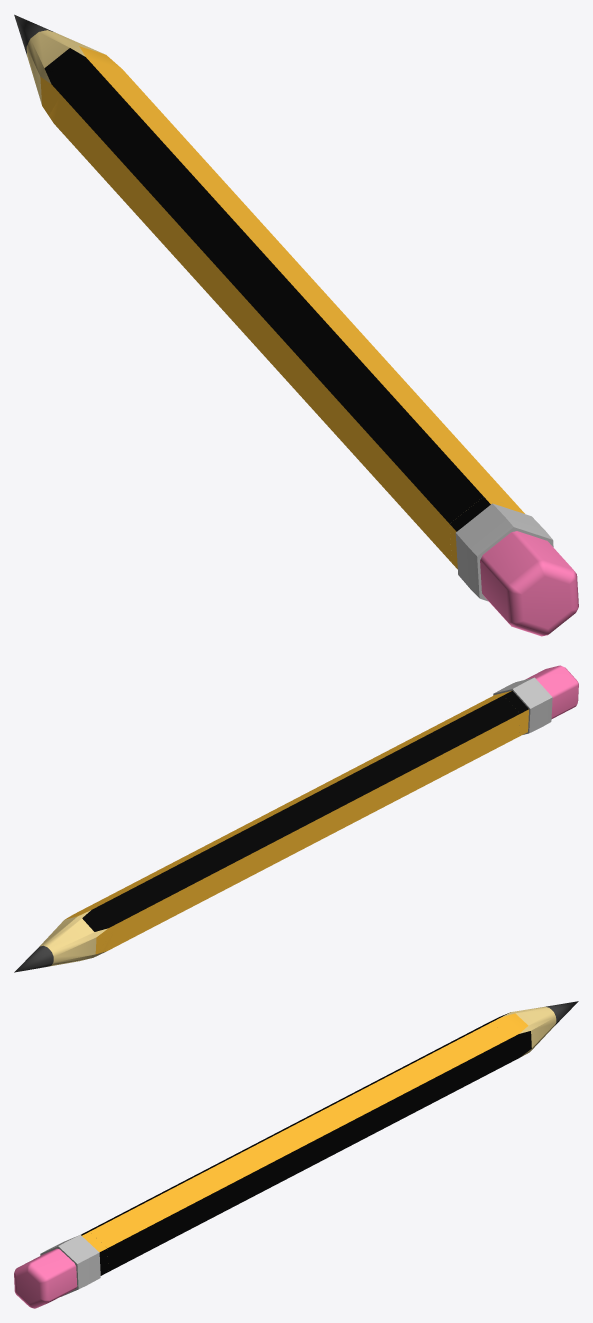
File: Pencil02.fbx
3 views of the same model, one above another, from view 1: azimuth 30°, elevation 25°; view 2: azimuth 150°, elevation 25°; view 3: azimuth 330°, elevation 25° (orthographic). The views are drawn at different scales.
Visible parts, largest first — view 1: PencilShaft, PencilEraser, PencilTip_01, PencilTip_04; view 2: PencilShaft, PencilEraser, PencilTip_01, PencilTip_04; view 3: PencilShaft, PencilEraser, PencilTip_01, PencilTip_04.
Part boxes in pixels (x1,y1,x2,y2): PencilShaft: (61,67,519,562); PencilEraser: (449,497,578,636); PencilTip_01: (14,14,111,115); PencilTip_04: (49,46,131,133); PencilShaft: (84,695,519,945); PencilEraser: (486,665,578,736); PencilTip_01: (14,910,117,972); PencilTip_04: (65,904,117,951); PencilShaft: (81,1022,510,1271); PencilEraser: (14,1232,108,1308); PencilTip_01: (493,1001,578,1058); PencilTip_04: (476,1013,527,1062).
Size of the model in its own units: 0.0668 by 0.0225 by 0.3492.
